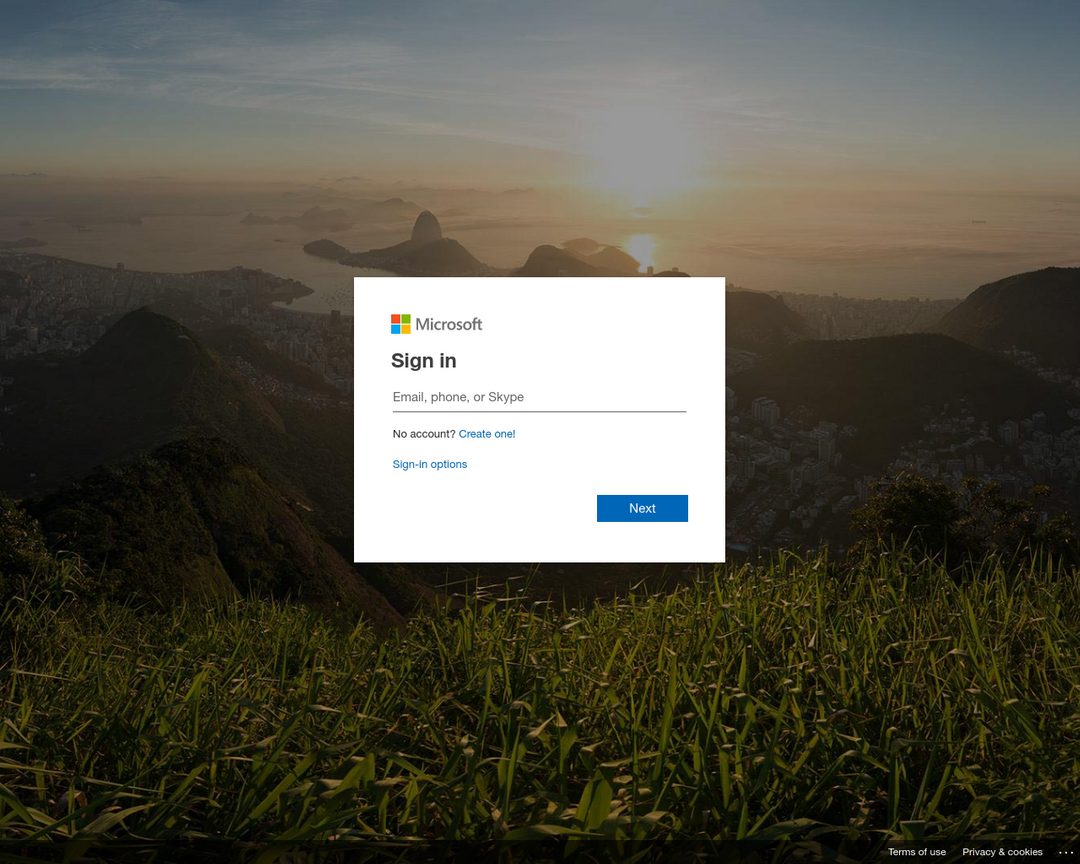Microsoft: (383, 313, 487, 338)
